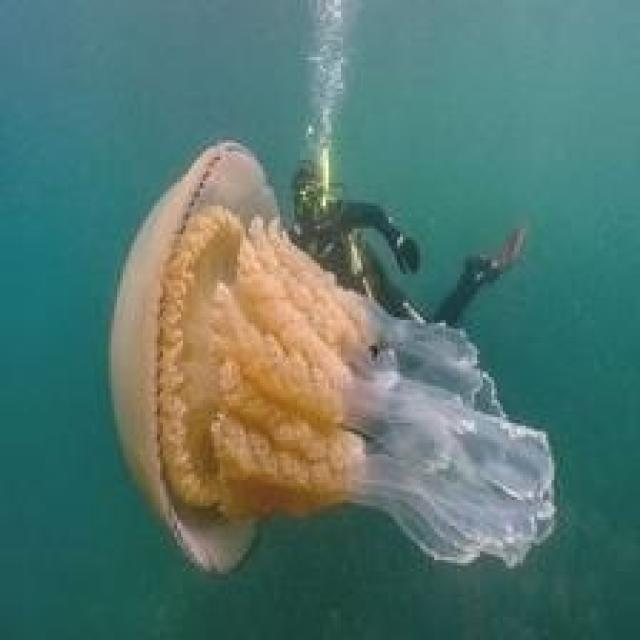Box-jellyfish: (106, 135, 557, 574)
